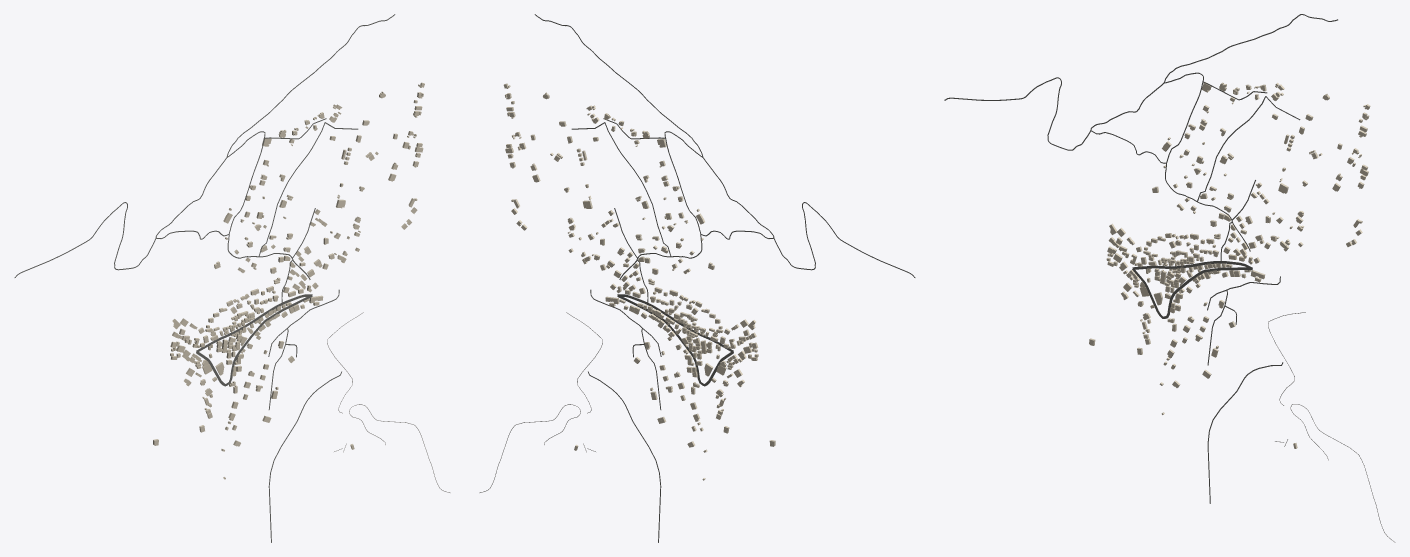
The model's file is historic-palestine-13_38_3554_3325.glb.
3 renders of one model, left to right at view 1: azimuth 30°, elevation 25°; view 2: azimuth 150°, elevation 25°; view 3: azimuth 330°, elevation 25°, orthographic. The views are drawn at different scales.
Parts seen in each view (by area): view 1: Road .002; view 2: Road .002; view 3: Road .002, Road .017.
Part boxes in pixels (x1,y1,x2,y2): Road .002: [14, 14, 395, 277]; Road .002: [534, 14, 915, 277]; Road .002: [944, 14, 1337, 150]; Road .017: [1132, 267, 1252, 318].
Bounding box in the file's own units: 1459 × 1593 × 8.7.
